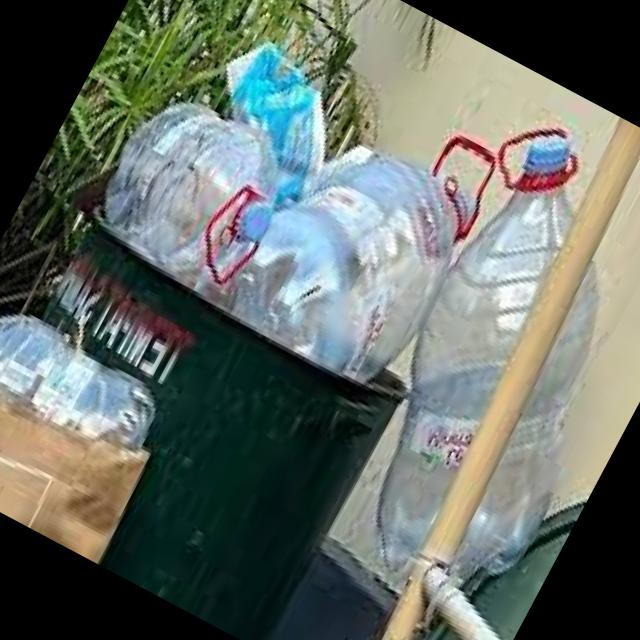Galon: (68, 0, 531, 407), (295, 106, 640, 639), (0, 263, 198, 481)
